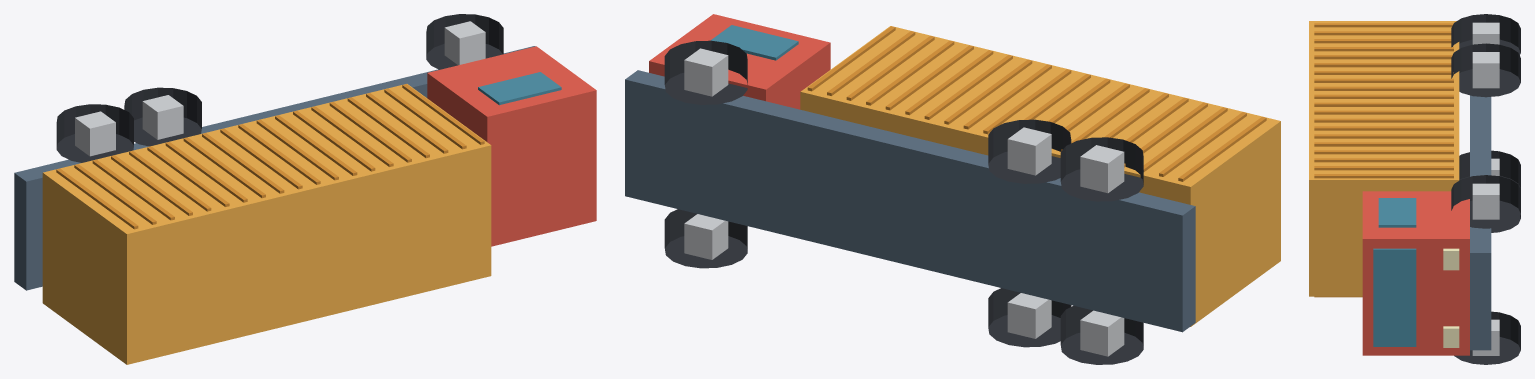
The model's file is truck.glb.
3 renders of one model, left to right at view 1: azimuth 30°, elevation 25°; view 2: azimuth 150°, elevation 25°; view 3: azimuth 270°, elevation 25°, orthographic. The views are drawn at different scales.
Visible parts, largest first — view 1: container_truck; view 2: container_truck; view 3: container_truck.
Part boxes in pixels (x1=…): container_truck: x1=14, y1=14, x2=596, y2=364; container_truck: x1=625, y1=14, x2=1280, y2=364; container_truck: x1=1309, y1=14, x2=1520, y2=364.
Size of the model in its own units: 1 by 0.332 by 0.395.
